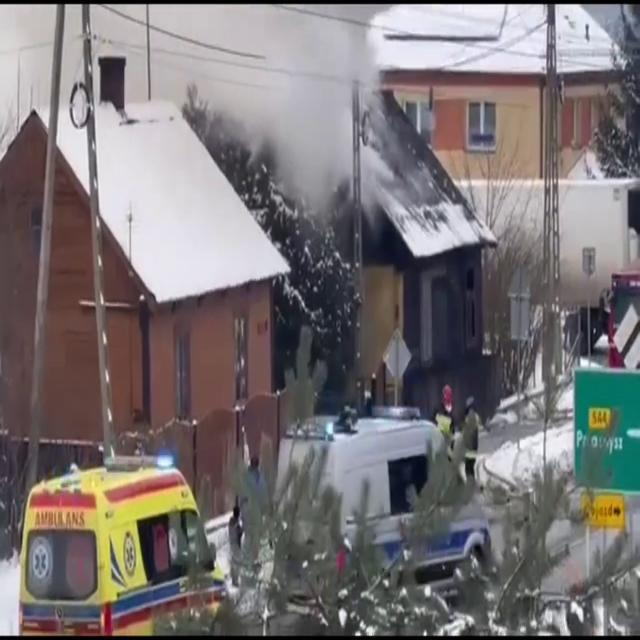Smoke: (188, 0, 402, 228)
